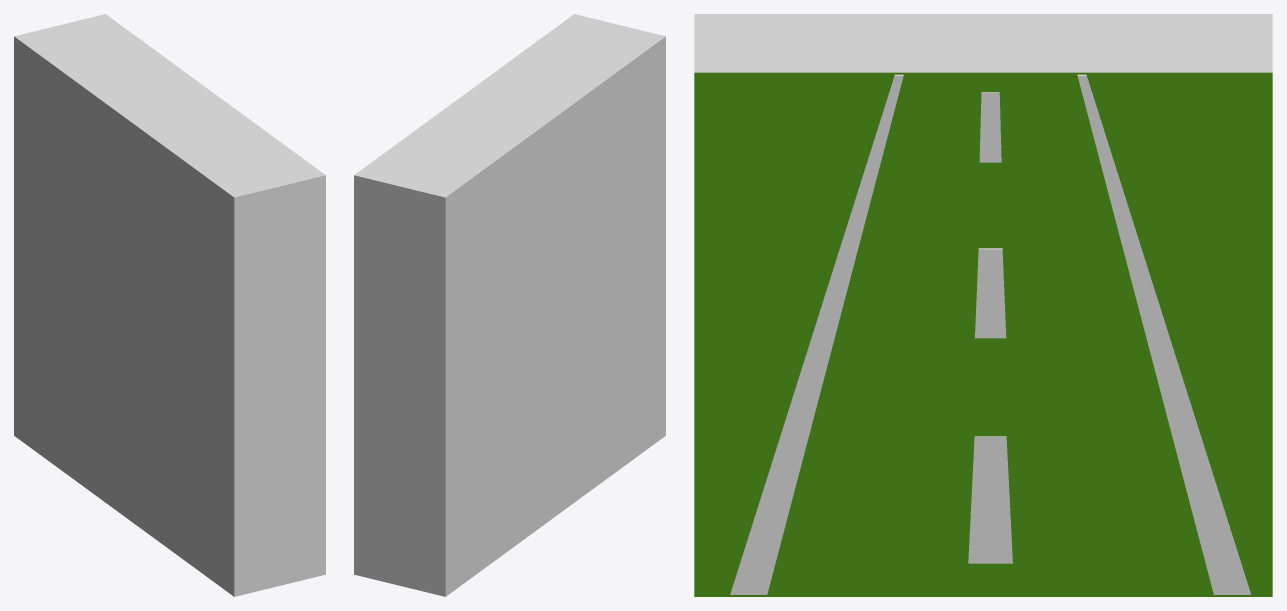
Rendered from IconRoadQualityGood.fbx.
The picture shows the model from 3 angles, left to right: view 1: azimuth 30°, elevation 25°; view 2: azimuth 150°, elevation 25°; view 3: azimuth 270°, elevation 25°; orthographic projection. The views are drawn at different scales.
Parts seen in each view (by area): view 1: Cube.025; view 2: Cube.025; view 3: Cube.025, Cube.024, Cube.023, Cube.022, Cube.021.
Part boxes in pixels (x1,y1,x2,y2): Cube.025: (14,14,325,596); Cube.025: (354,14,665,596); Cube.025: (694,14,1272,596); Cube.024: (730,74,1250,594); Cube.023: (968,436,1012,563); Cube.022: (975,248,1006,338); Cube.021: (979,92,1001,162).
Size of the model in its own units: 114 by 466 by 466.
